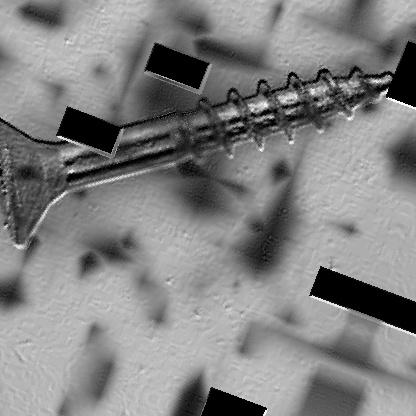metal: (1, 67, 396, 253)
